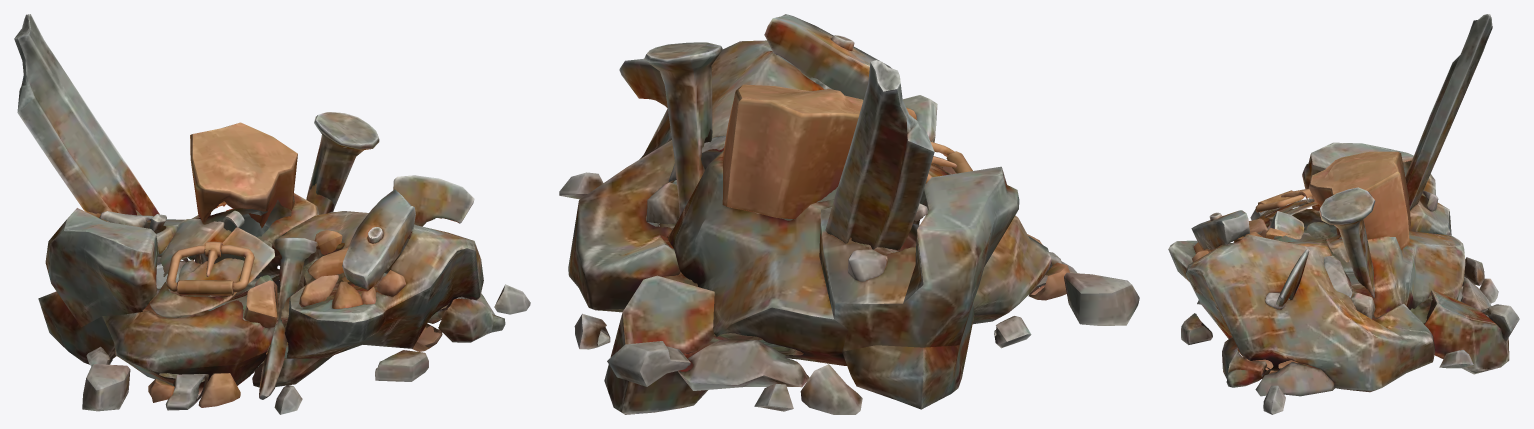
The picture shows the model from 3 angles, left to right: view 1: azimuth 30°, elevation 25°; view 2: azimuth 150°, elevation 25°; view 3: azimuth 270°, elevation 25°; orthographic projection. The views are drawn at different scales.
Visible parts, largest first — view 1: SM_Metal_Ingot_01_LOD0; view 2: SM_Metal_Ingot_01_LOD0; view 3: SM_Metal_Ingot_01_LOD0.
Part boxes in pixels (left/top/right/bottom): SM_Metal_Ingot_01_LOD0: left=14, top=14, right=530, bottom=414; SM_Metal_Ingot_01_LOD0: left=559, top=14, right=1139, bottom=414; SM_Metal_Ingot_01_LOD0: left=1168, top=14, right=1519, bottom=414.
Bounding box in the file's own units: 0.5349 × 0.373 × 0.4288.
Materials: 1 (1 with a texture image).
